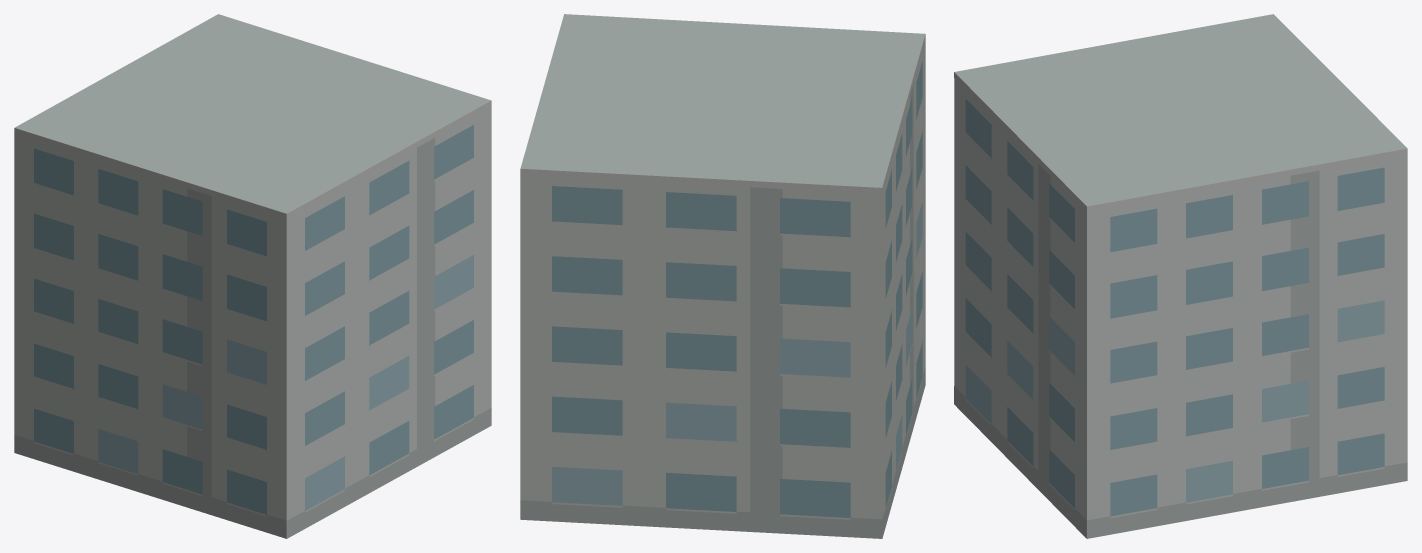
File: survey-upis-33029097.glb
3 renders of one model, left to right at view 1: azimuth 30°, elevation 25°; view 2: azimuth 150°, elevation 25°; view 3: azimuth 270°, elevation 25°, orthographic. The views are drawn at different scales.
Visible parts, largest first — view 1: survey-upis-33029097.tmp; view 2: survey-upis-33029097.tmp; view 3: survey-upis-33029097.tmp.
Part boxes in pixels (x1,y1,x2,y2): survey-upis-33029097.tmp: (14,14,491,538); survey-upis-33029097.tmp: (520,14,925,538); survey-upis-33029097.tmp: (954,14,1407,538).
Size of the model in its own units: 16.66 by 13.4 by 16.58.
